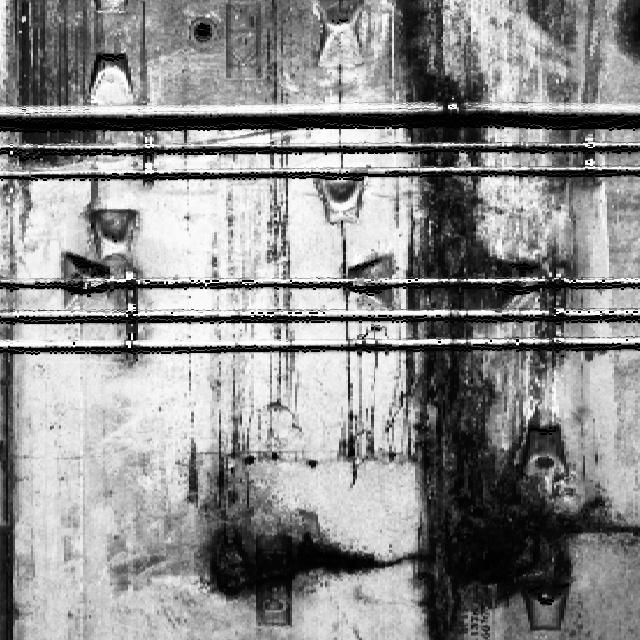leakage: (380, 0, 566, 639), (207, 160, 300, 445), (188, 463, 379, 601), (1, 1, 120, 163), (258, 2, 293, 107)
